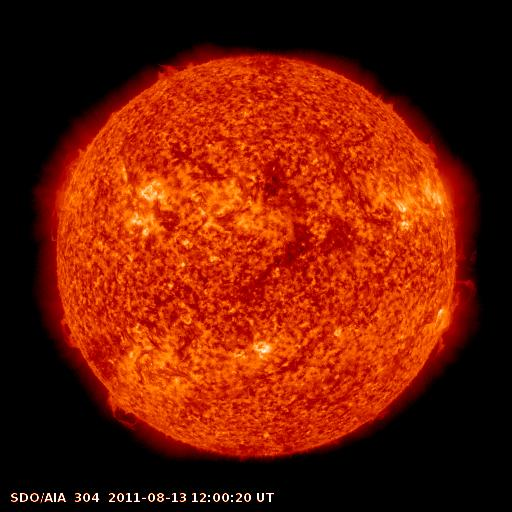prominence: (40, 146, 93, 240), (432, 273, 485, 365), (50, 309, 95, 362), (98, 390, 142, 429), (146, 55, 188, 91), (415, 129, 448, 174)
